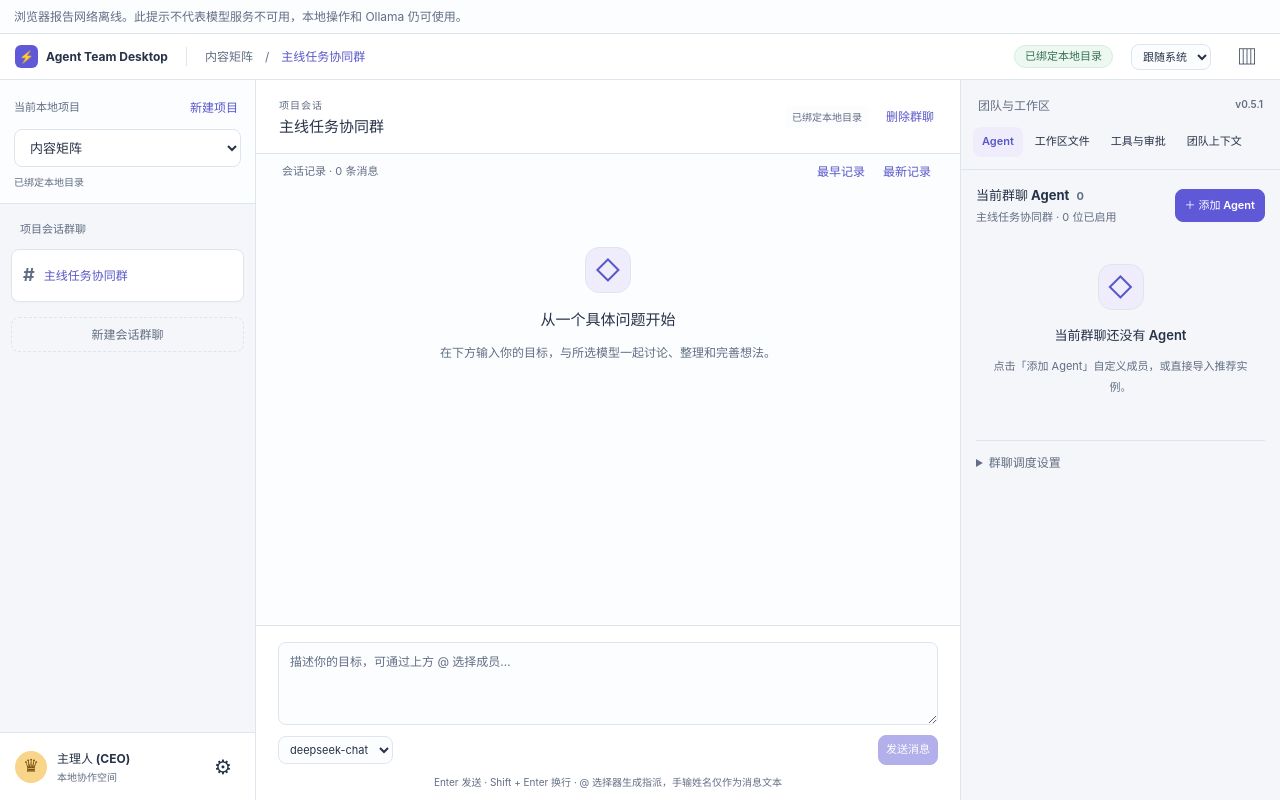
Test: keeps real local and Ollama controls available while browser reports offline
Check: the heading "主线任务协同群" is shown, box [279,115,384,139]
Check: the text box named "消息内容" is enabled, box [278,642,938,725]
Click the button named "模型设置". click: (223, 767)
box: [206,749,240,785]
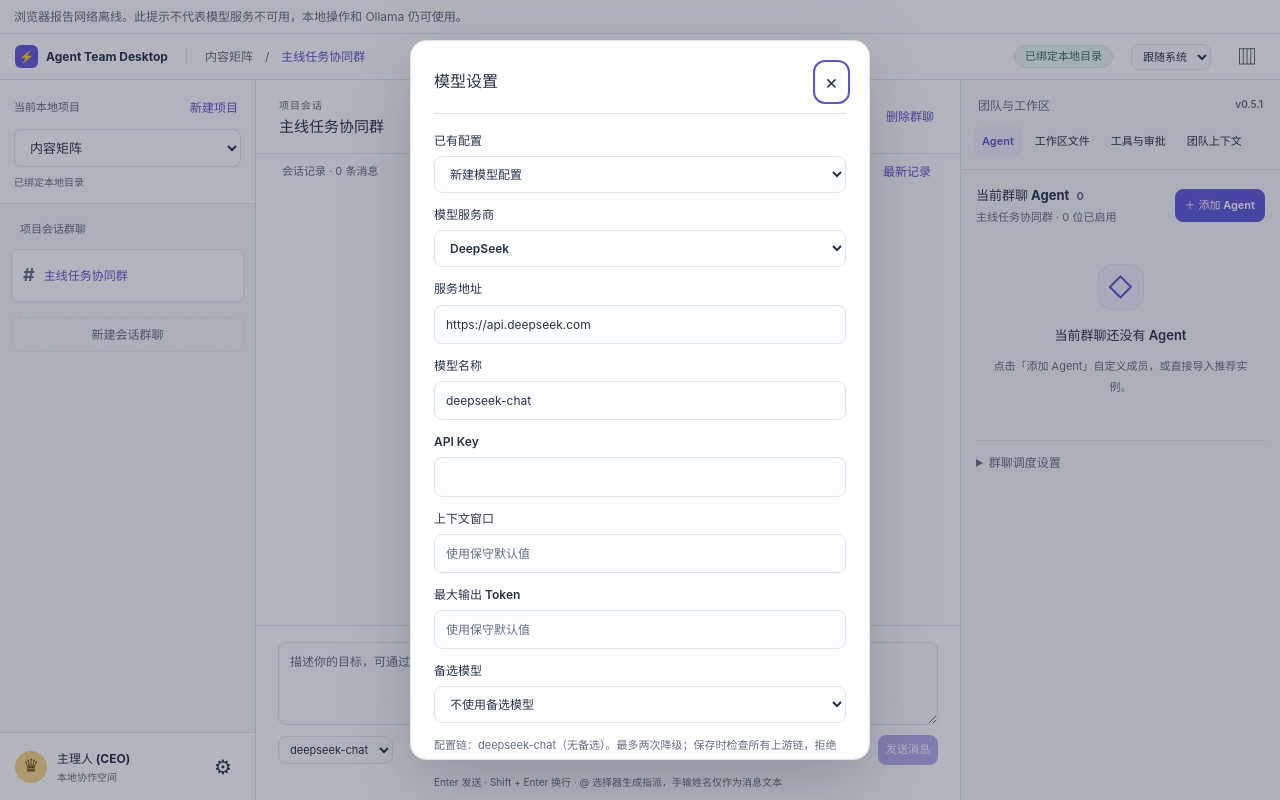
Select "Ollama 本机模型" in the dropdown labelled "模型服务商". click: (640, 249)
box: [434,230,846,267]
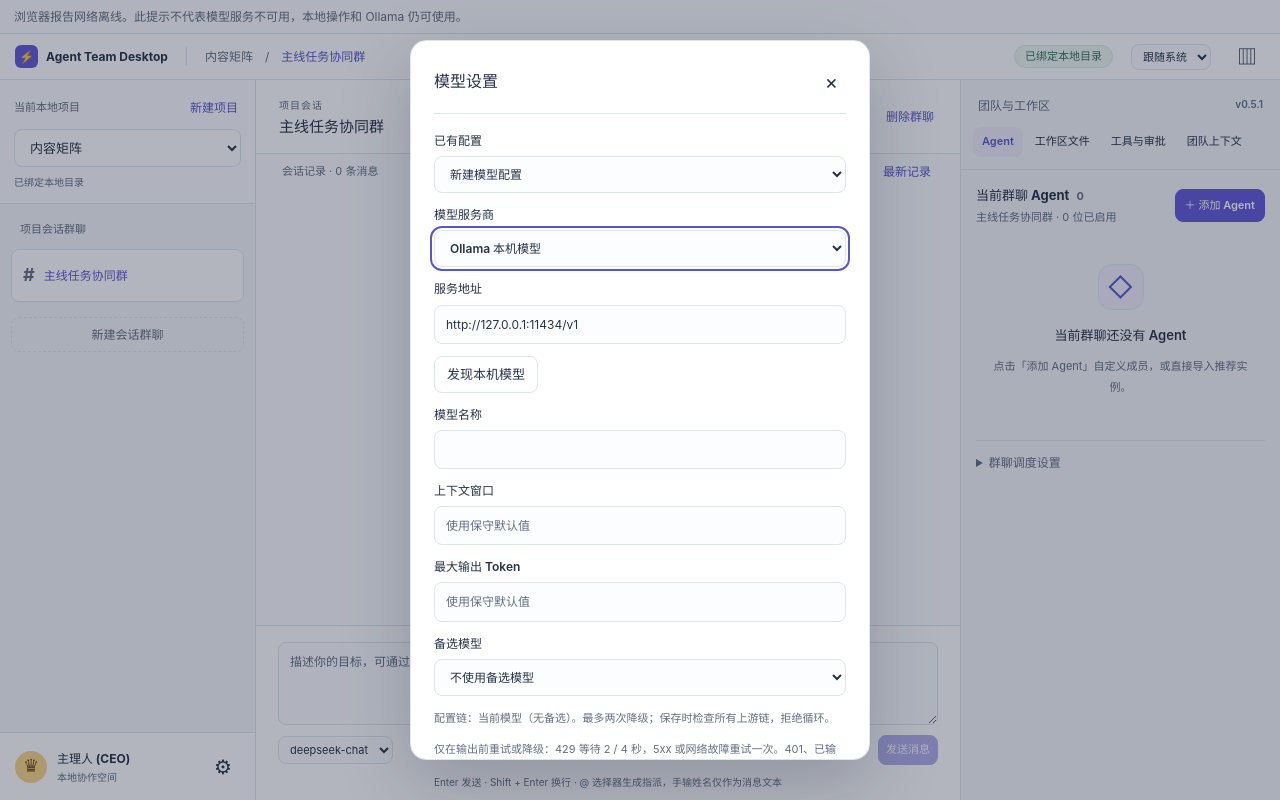
Check: the button "发现本机模型" is enabled, box [434,356,538,393]
